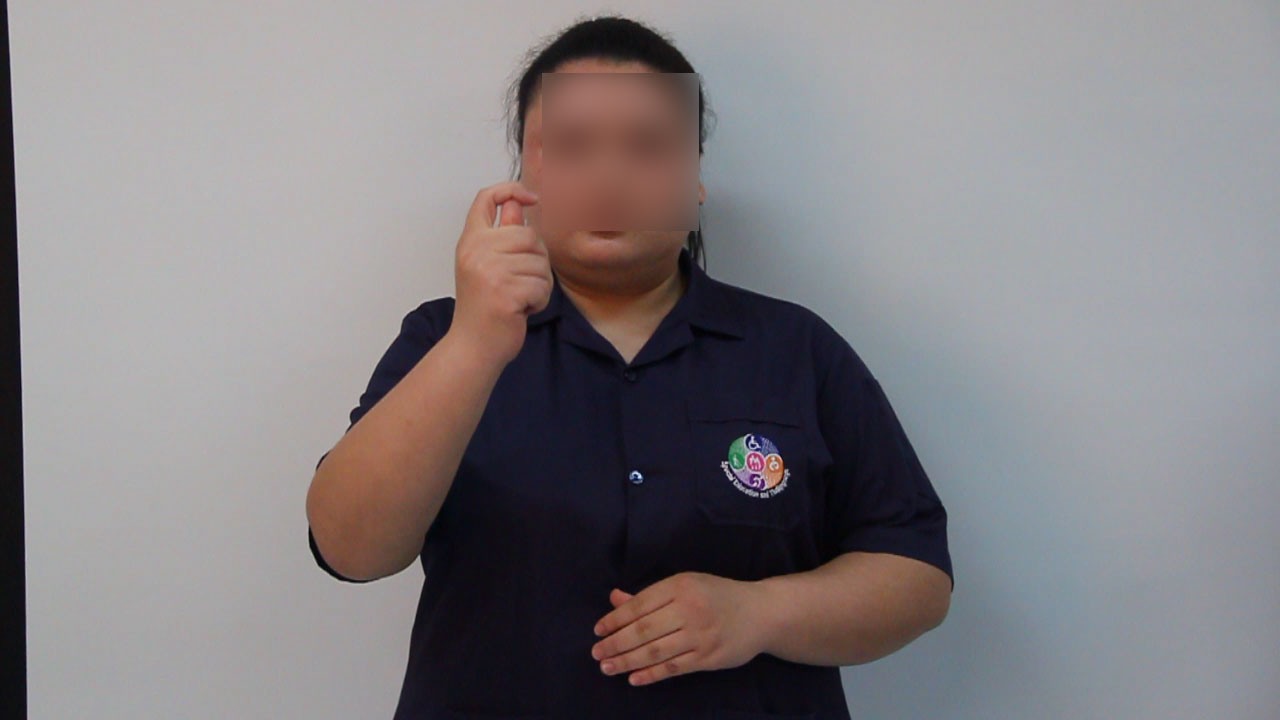or: (451, 175, 558, 352)
